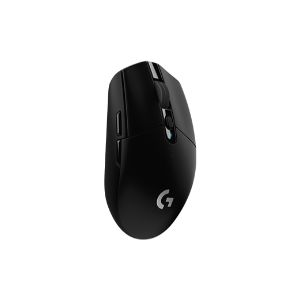mouse: (102, 59, 198, 243)
